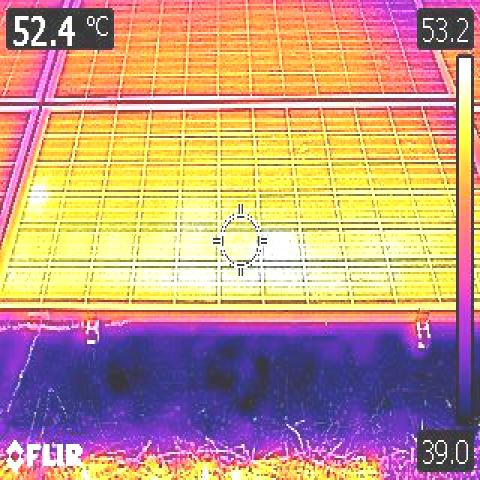fault: (260, 227, 301, 262), (25, 178, 47, 206)
